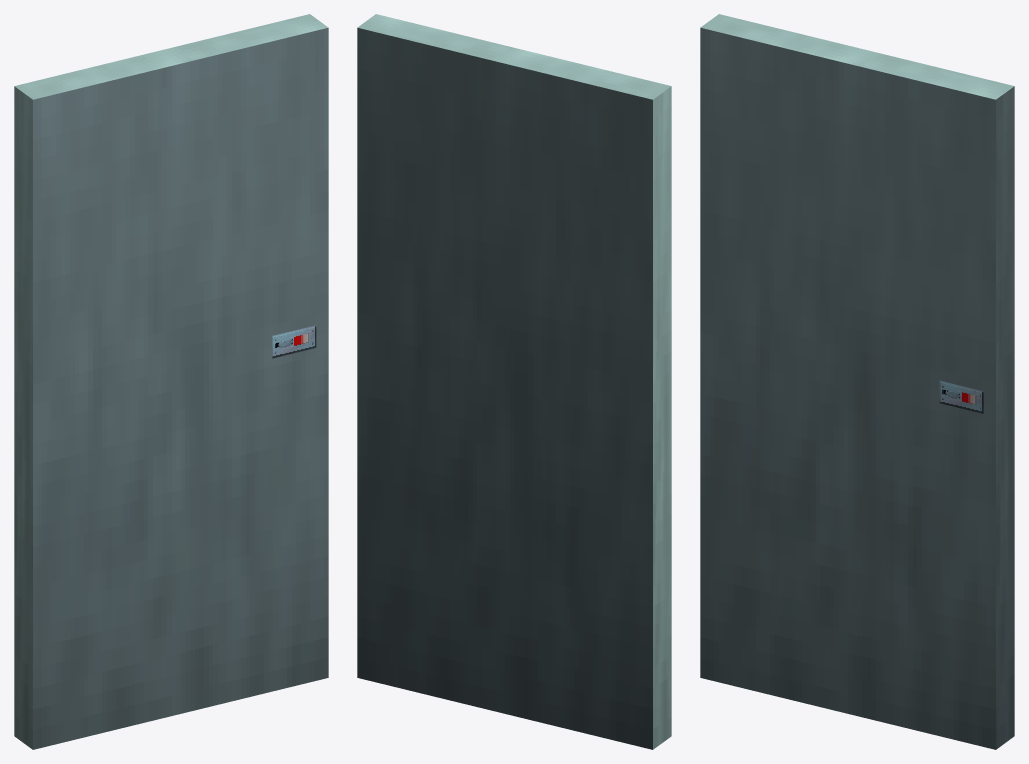
The model's file is primary_212.glb.
3 renders of one model, left to right at view 1: azimuth 30°, elevation 25°; view 2: azimuth 150°, elevation 25°; view 3: azimuth 330°, elevation 25°, orthographic.
Parts seen in each view (by area): view 1: Object; view 2: Object; view 3: Object.
Boxes of the visible parts, x1,y1,x2,y2 form: Object: (14, 14, 328, 749); Object: (357, 14, 671, 749); Object: (700, 14, 1014, 749).
Bounding box in the file's own units: 1.2 × 2.52 × 0.1313.
5 materials, 5 textured.
